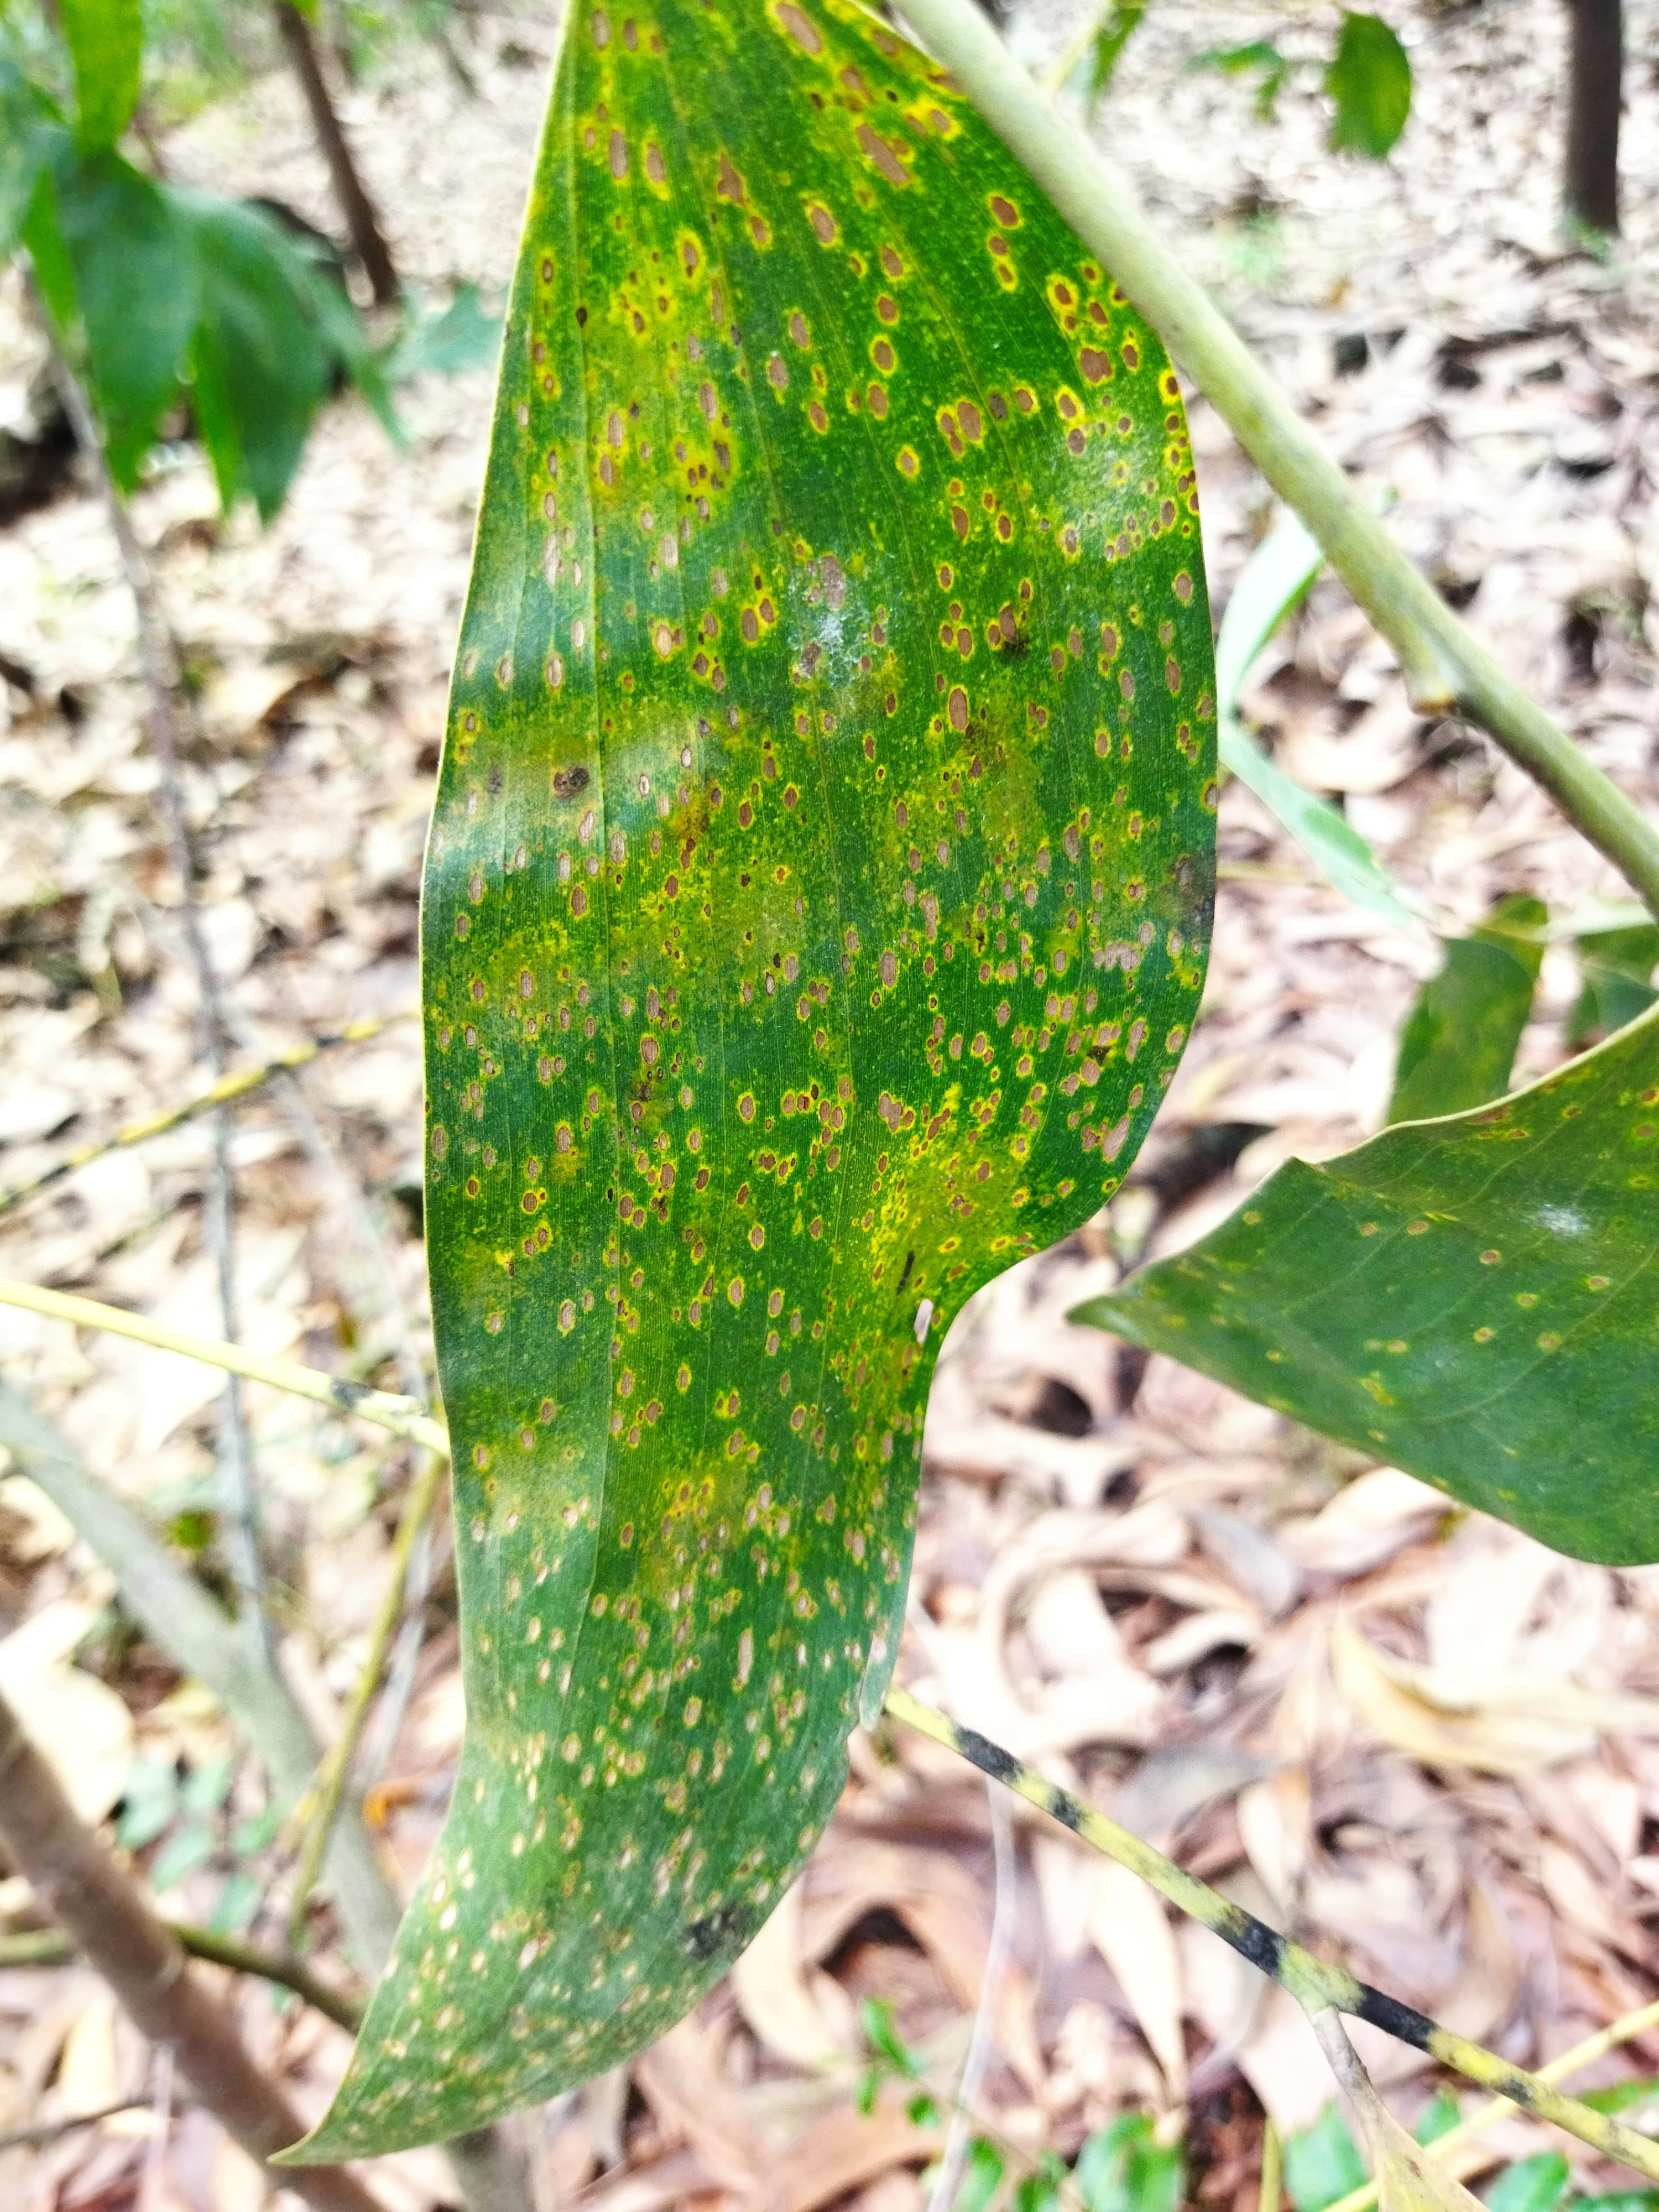Xanthomonas: (537, 101, 1124, 1318)
